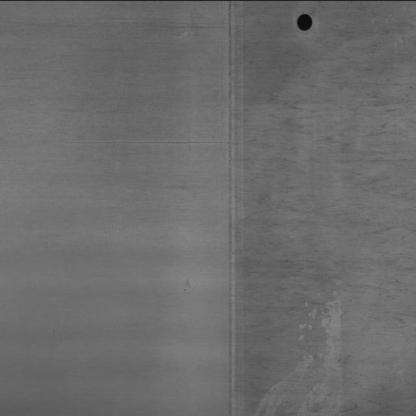punching_hole: (284, 10, 317, 35)
silk_spot: (256, 65, 401, 411)
welding_line: (216, 0, 244, 414)
